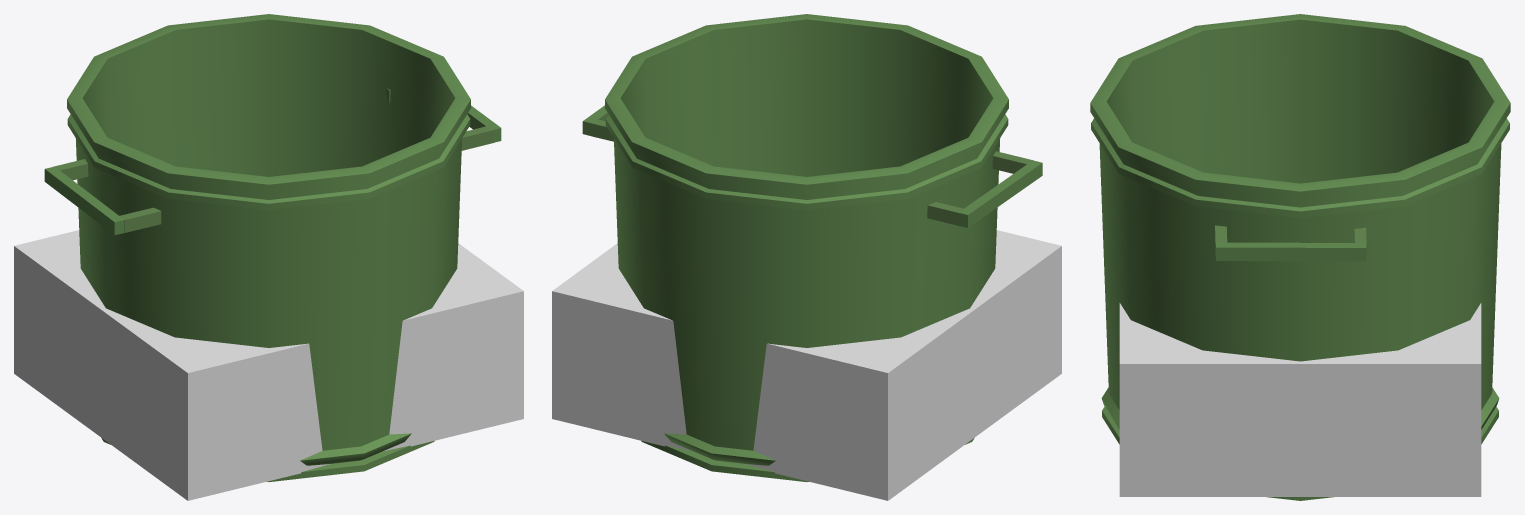
The model's file is TrashBox.gltf.
3 renders of one model, left to right at view 1: azimuth 30°, elevation 25°; view 2: azimuth 150°, elevation 25°; view 3: azimuth 270°, elevation 25°, orthographic. The views are drawn at different scales.
Visible parts, largest first — view 1: Trashcan_Cylindric, COL, 立方体.002, 立方体, 立方体.007; view 2: Trashcan_Cylindric, COL, 立方体.002, 立方体.001, 立方体; view 3: Trashcan_Cylindric, COL, 立方体.006.
Part boxes in pixels (<box>): Trashcan_Cylindric: <box>67,14,470,481</box>; COL: <box>14,230,523,500</box>; 立方体.002: <box>44,166,124,234</box>; 立方体: <box>119,207,161,232</box>; 立方体.007: <box>461,126,494,150</box>; Trashcan_Cylindric: <box>605,14,1008,481</box>; COL: <box>552,230,1061,500</box>; 立方体.002: <box>959,160,1042,227</box>; 立方体.001: <box>927,202,964,226</box>; 立方体: <box>992,151,1032,173</box>; Trashcan_Cylindric: <box>1090,14,1510,500</box>; COL: <box>1119,303,1481,496</box>; 立方体.006: <box>1216,242,1366,261</box>.
Size of the model in its own units: 2.29 by 1.72 by 2.07.
